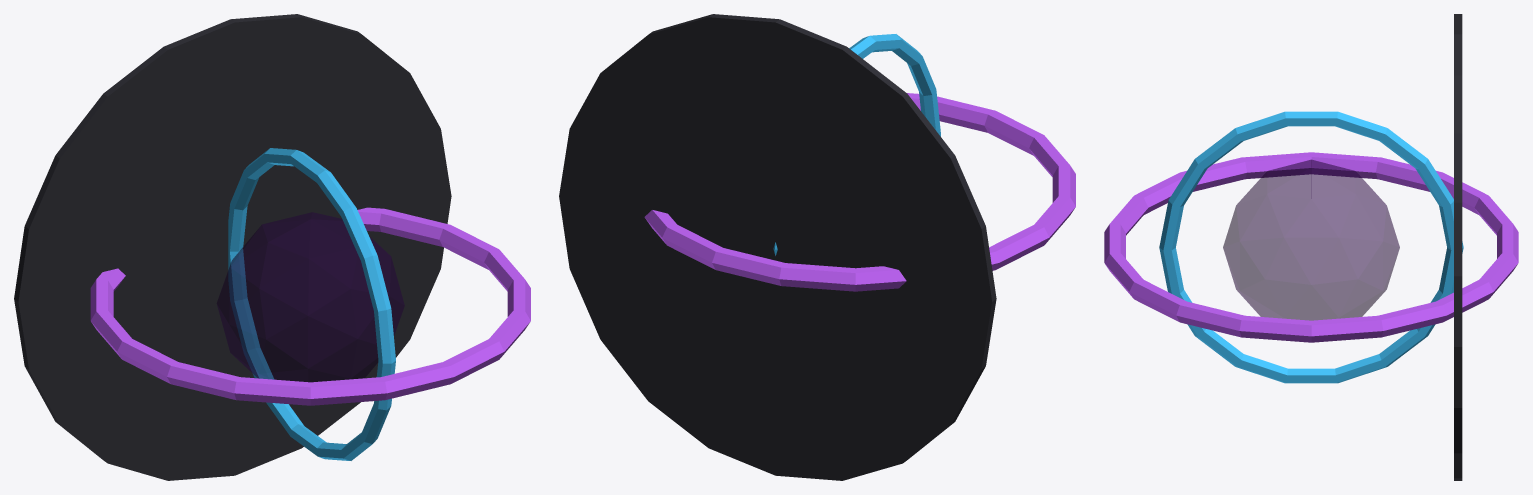
Rendered from rift_pull_core.glb.
The picture shows the model from 3 angles, left to right: view 1: azimuth 30°, elevation 25°; view 2: azimuth 150°, elevation 25°; view 3: azimuth 270°, elevation 25°; orthographic projection. The views are drawn at different scales.
Parts seen in each view (by area): view 1: disk, core, ringA, ringB; view 2: disk, ringA, ringB; view 3: core, ringA, ringB, disk.
Part boxes in pixels (box(x1,y1,x2,y2)): disk: box(14, 14, 451, 480); core: box(216, 212, 404, 382); ringA: box(90, 207, 530, 405); ringB: box(228, 148, 395, 460); disk: box(559, 14, 996, 480); ringA: box(644, 93, 1075, 291); ringB: box(773, 34, 940, 255); core: box(1223, 159, 1399, 320); ringA: box(1104, 152, 1518, 342); ringB: box(1159, 111, 1463, 383); disk: box(1454, 14, 1462, 480).
Bounding box in the file's own units: 1.7 × 1.7 × 1.5.
